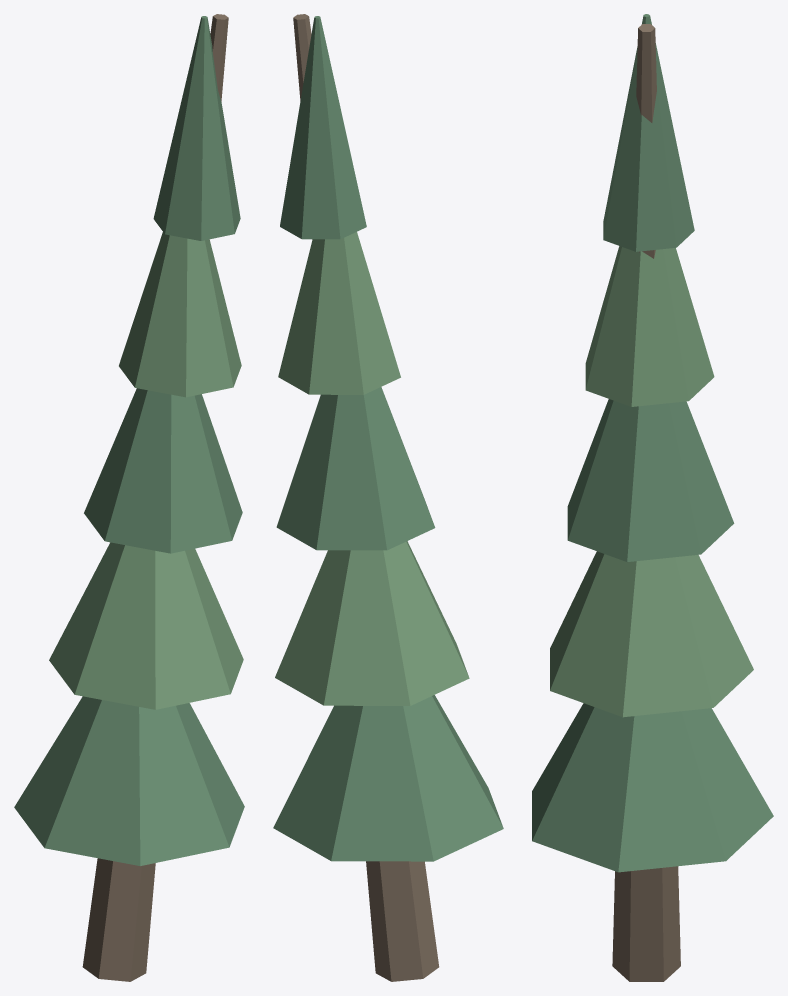
The model's file is pine_v04.glb.
The picture shows the model from 3 angles, left to right: view 1: azimuth 30°, elevation 25°; view 2: azimuth 150°, elevation 25°; view 3: azimuth 270°, elevation 25°; orthographic projection. The views are drawn at different scales.
Visible parts, largest first — view 1: lod0; view 2: lod0; view 3: lod0.
Boxes of the visible parts, x1,y1,x2,y2 form: lod0: (14, 14, 244, 981); lod0: (273, 14, 503, 981); lod0: (532, 14, 773, 981).
Size of what is drawn, in the model's own units: 1.48 by 6.45 by 1.41.
